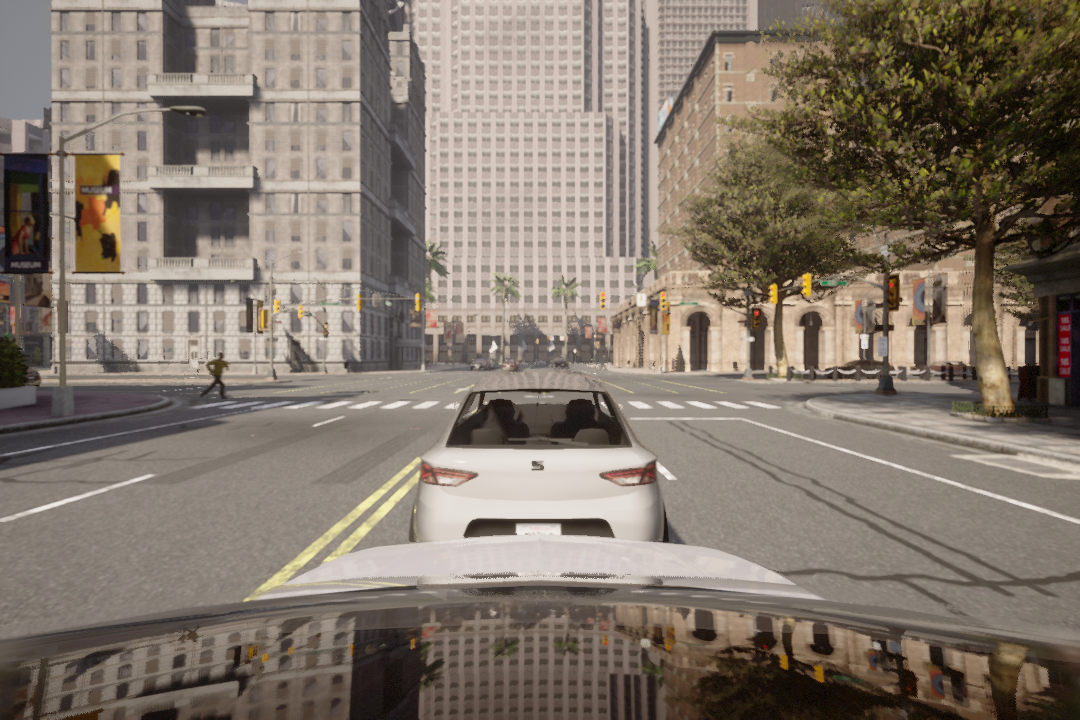TrafficLight: (884, 275, 897, 309), (654, 289, 671, 314), (797, 274, 811, 300), (765, 283, 777, 307), (597, 292, 607, 311)
walkside: (181, 394, 790, 416)
